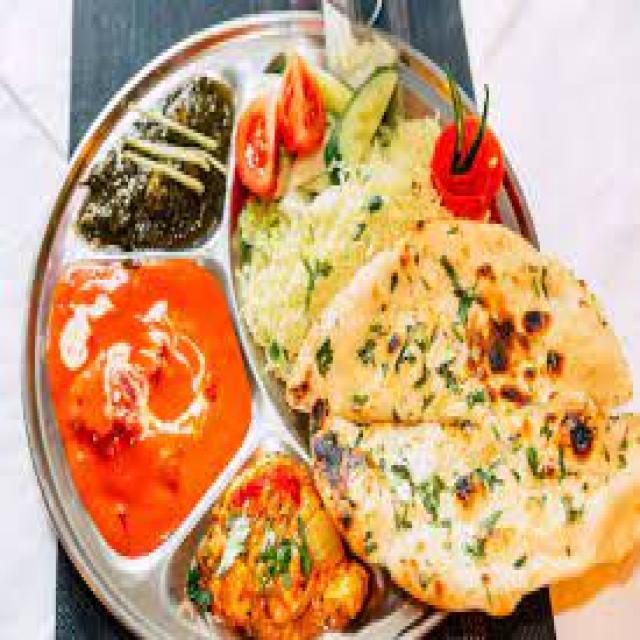dal: (307, 213, 535, 462)
rice: (234, 85, 434, 377)
roti: (299, 212, 549, 458)
